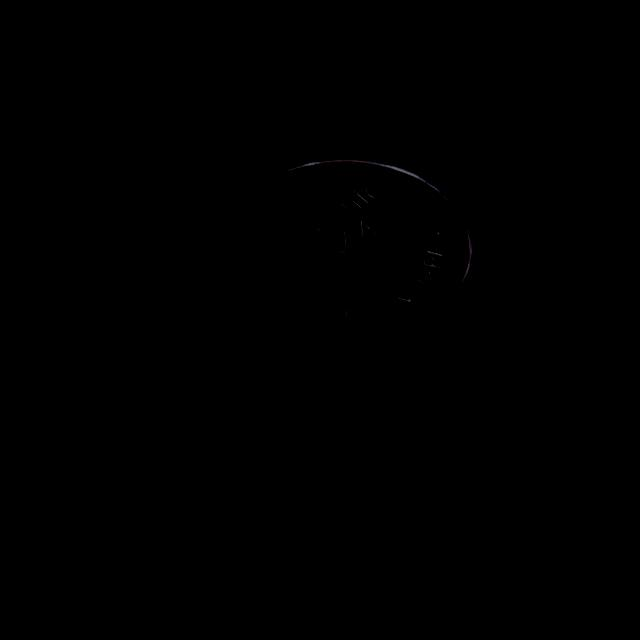COIN: (212, 159, 470, 344)
